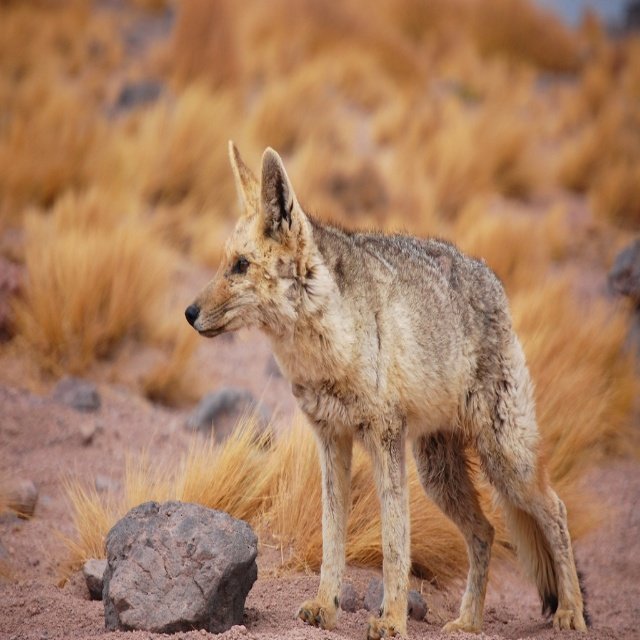Fox: (184, 139, 593, 640)
